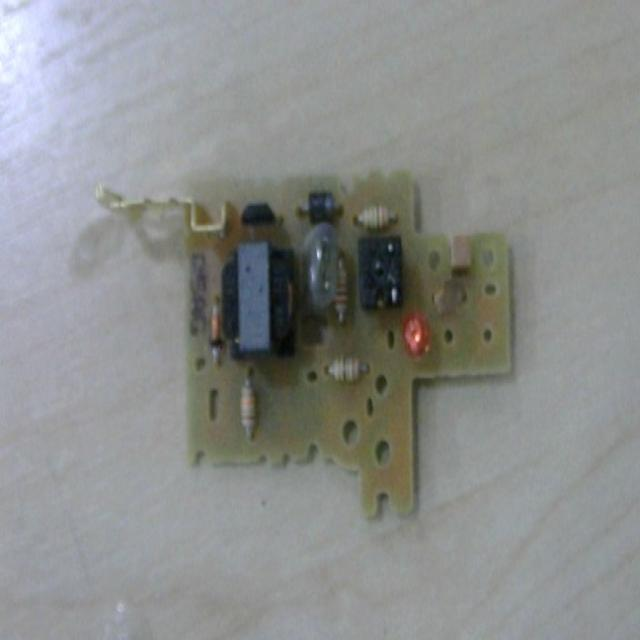019: (358, 234, 404, 311)
223: (304, 223, 336, 313)
DIODE: (295, 190, 345, 225)
LED: (403, 316, 432, 358)
R1: (326, 354, 369, 383)
R2: (337, 252, 351, 328)
R3: (353, 204, 398, 232)
R4: (240, 366, 259, 438)
TCE: (221, 242, 300, 362)
TRANSISTOR: (239, 199, 279, 229)
